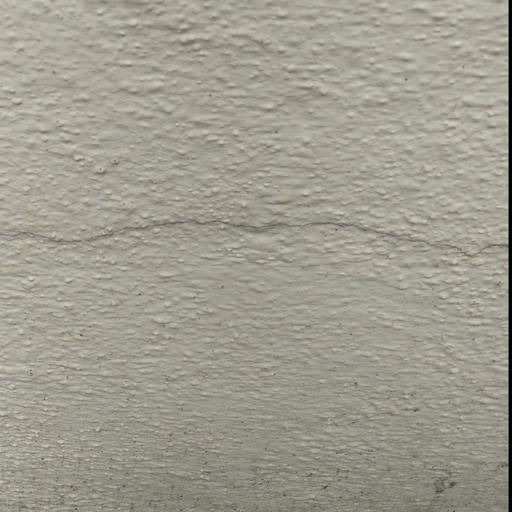minor_crack: (5, 202, 507, 269)
